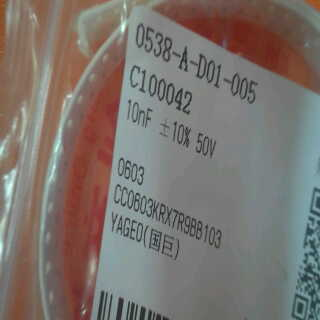10nF: (123, 95, 154, 130)
